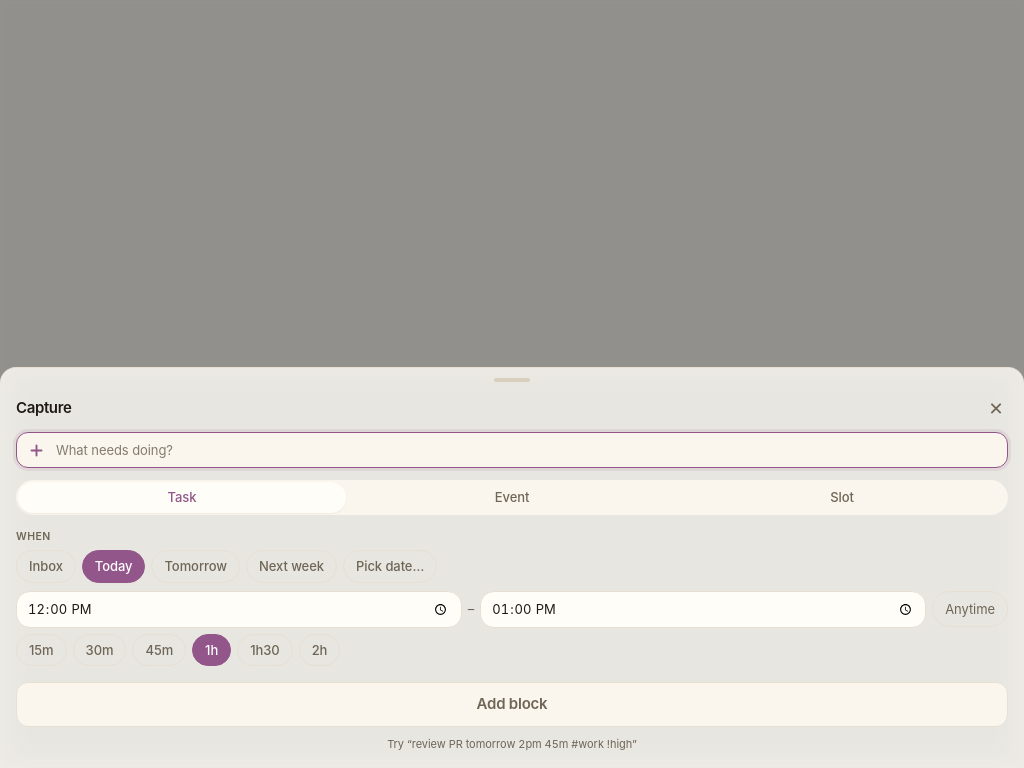
one input, two kinds › seeds the event face from the same tap
The image size is (1024, 768).
Click the button "Event": x=512, y=498 x1=348 y1=482 x2=676 y2=513
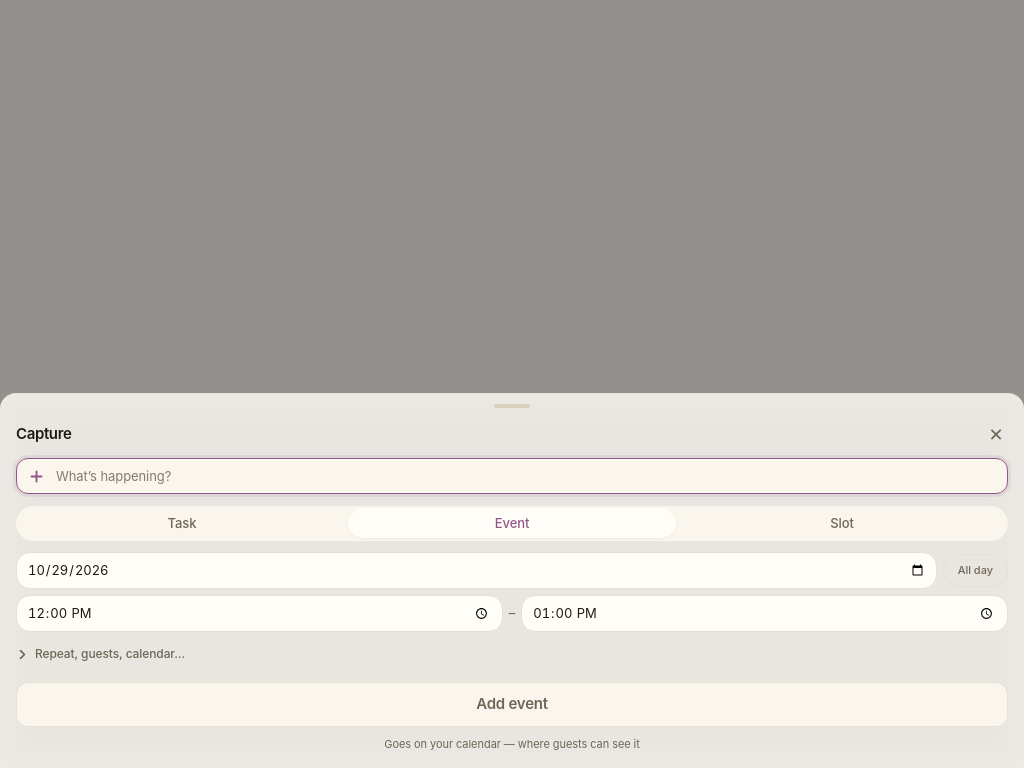
Expected: the time field named "Start time" holds "12:00", x1=16 y1=595 x2=503 y2=632
Expected: the time field named "End time" holds "13:00", x1=521 y1=595 x2=1008 y2=632
